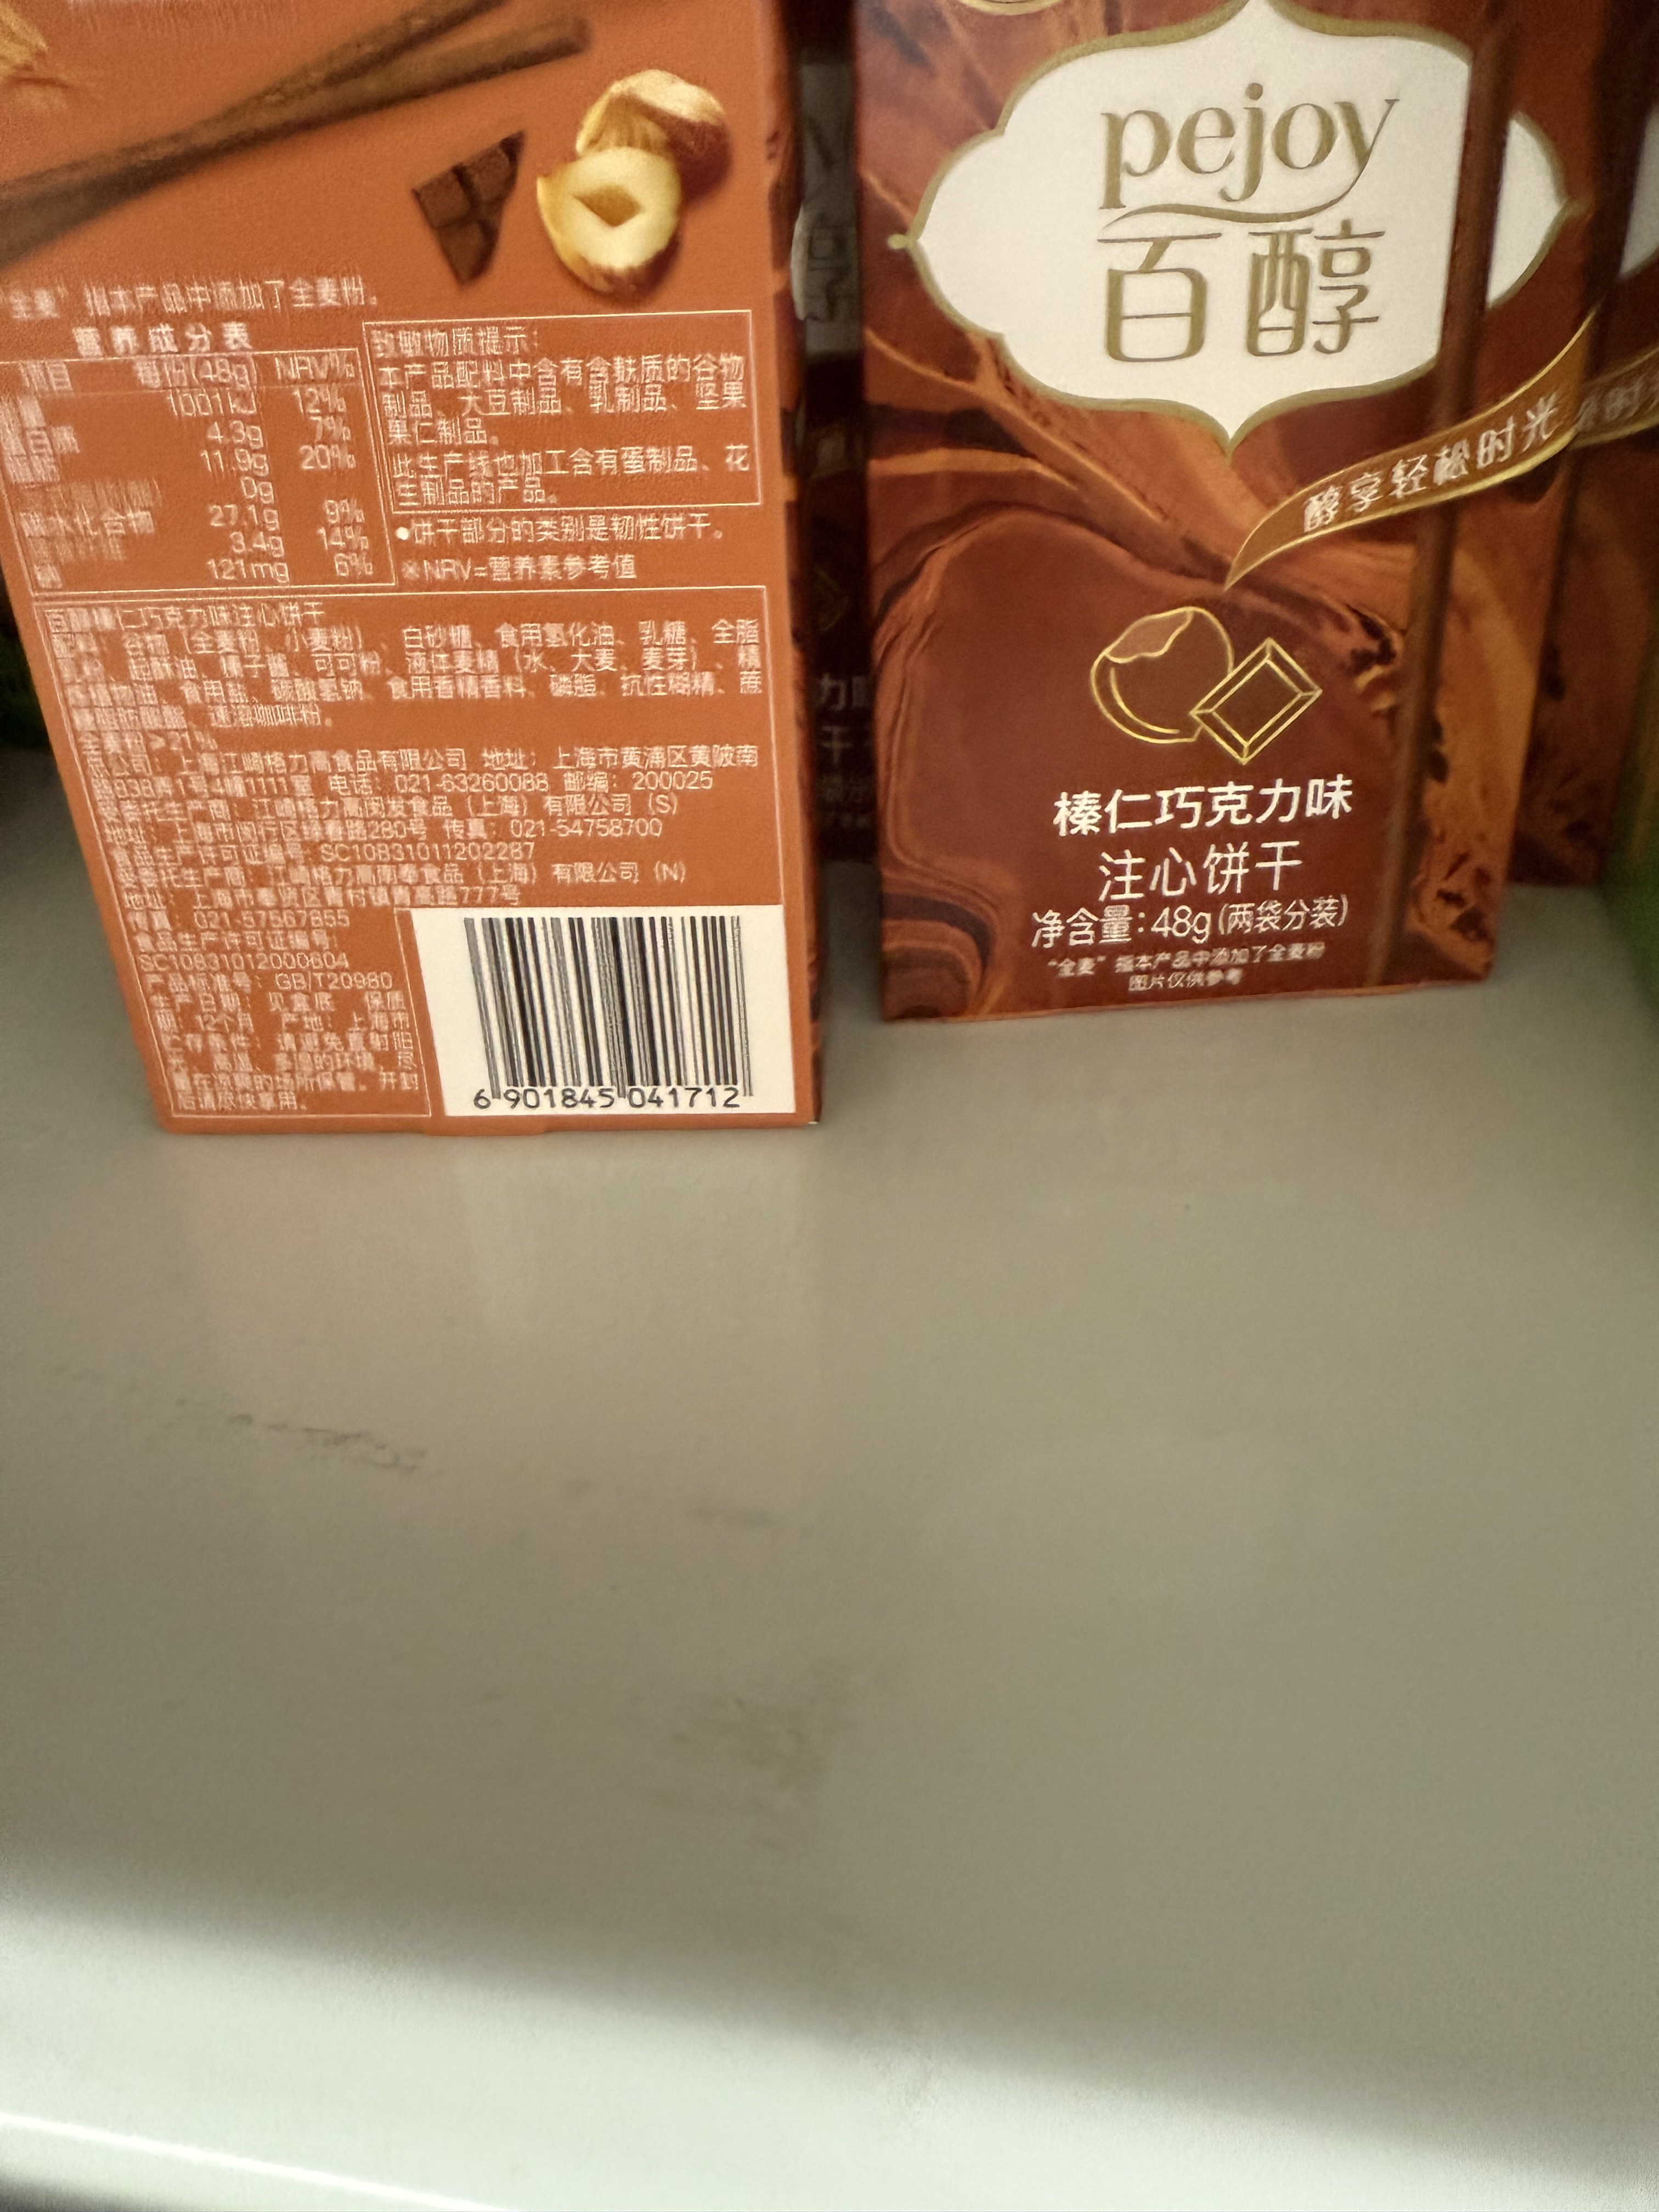bar: (451, 899, 758, 1113)
